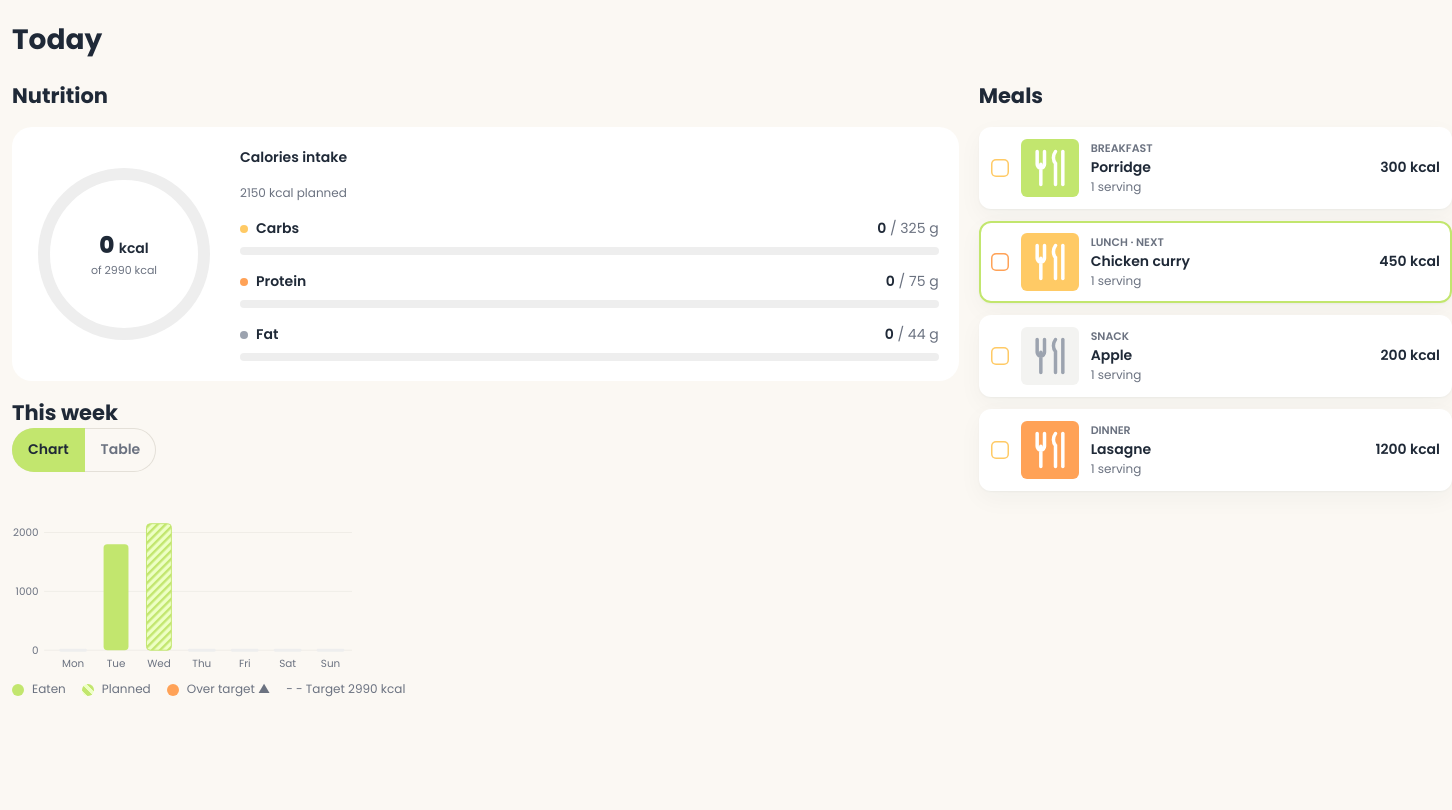
Test: TodayPage › AC-3: ticking Lunch with 1.5 servings adds 675 kcal
Click the checkbox named "lunch".
click(1000, 262)  # box x1=991 y1=252 x2=1009 y2=270
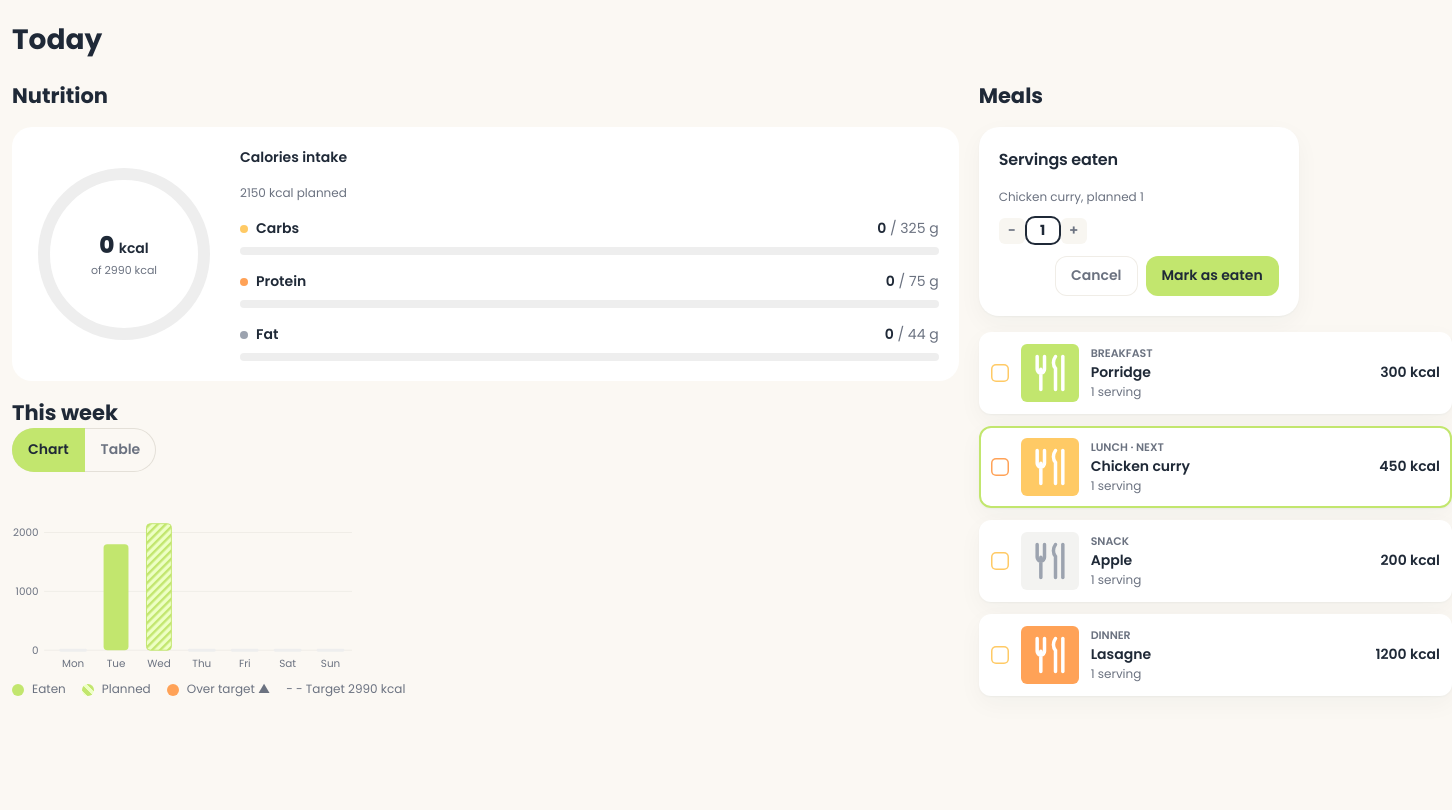
Click the button named "Increase Servings eaten".
click(1074, 230)  # box x1=1061 y1=218 x2=1087 y2=244
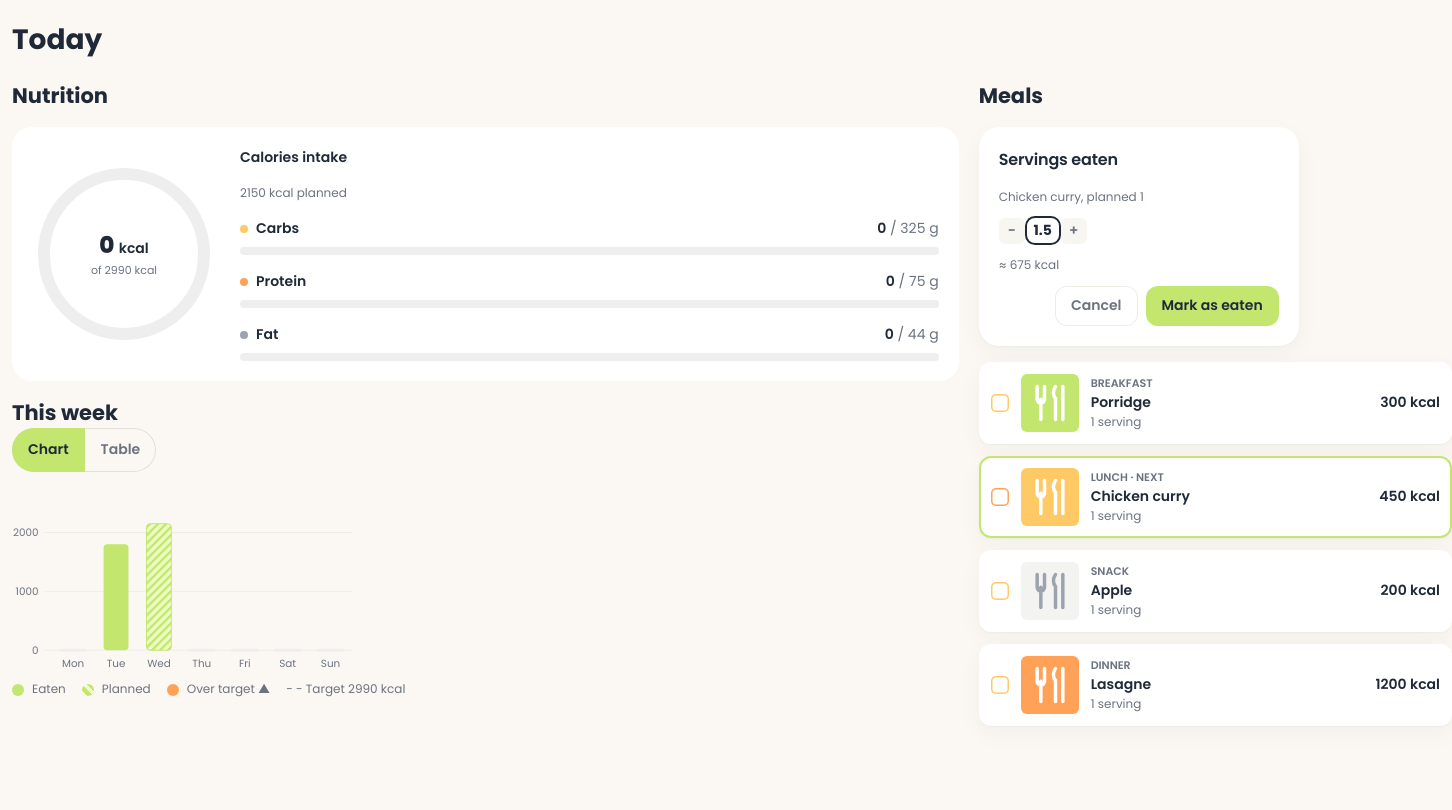
Click the button "Mark as eaten".
click(1212, 306)  # box x1=1146 y1=286 x2=1279 y2=326
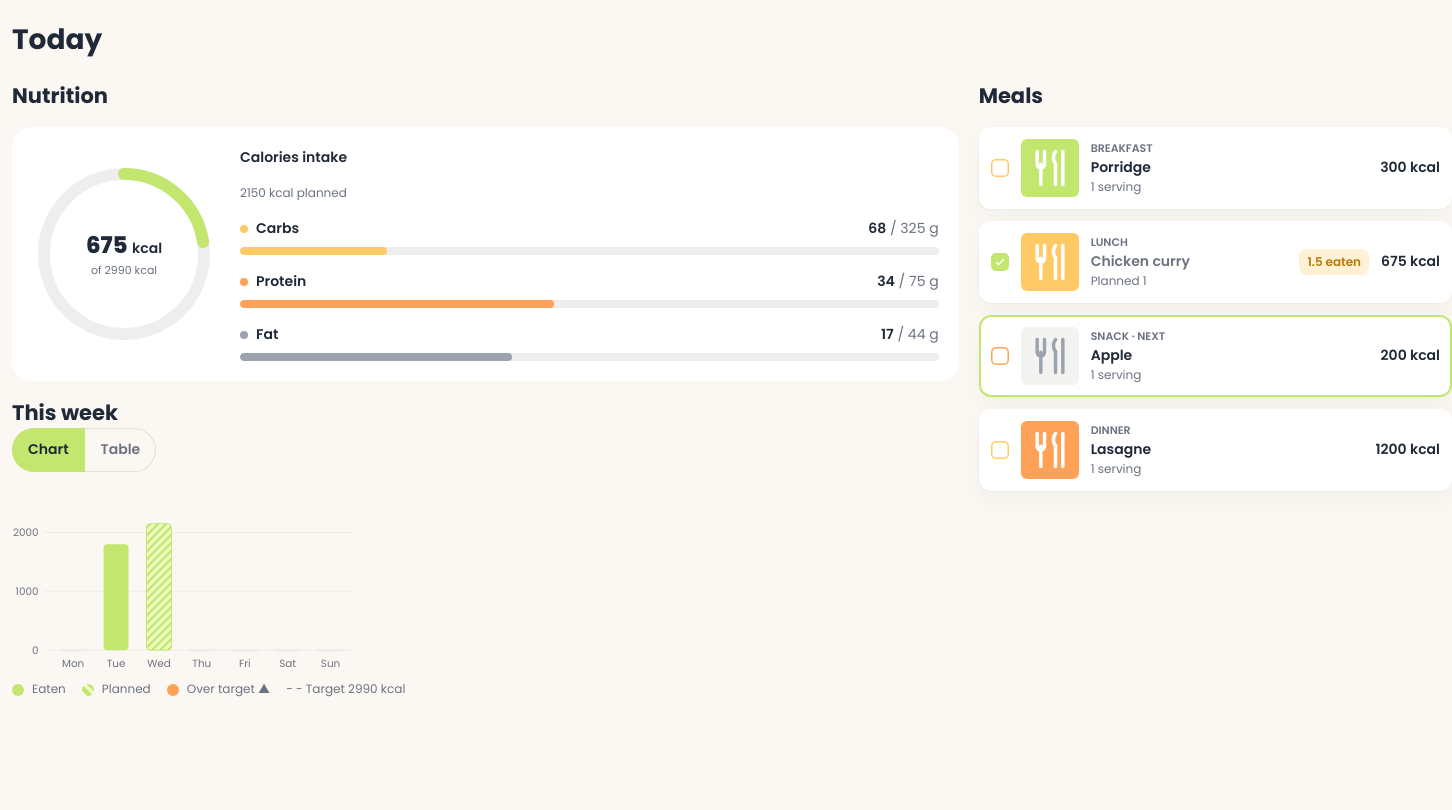
Expected: the picture "675 kcal of 2990" is shown, x1=32 y1=162 x2=216 y2=346
